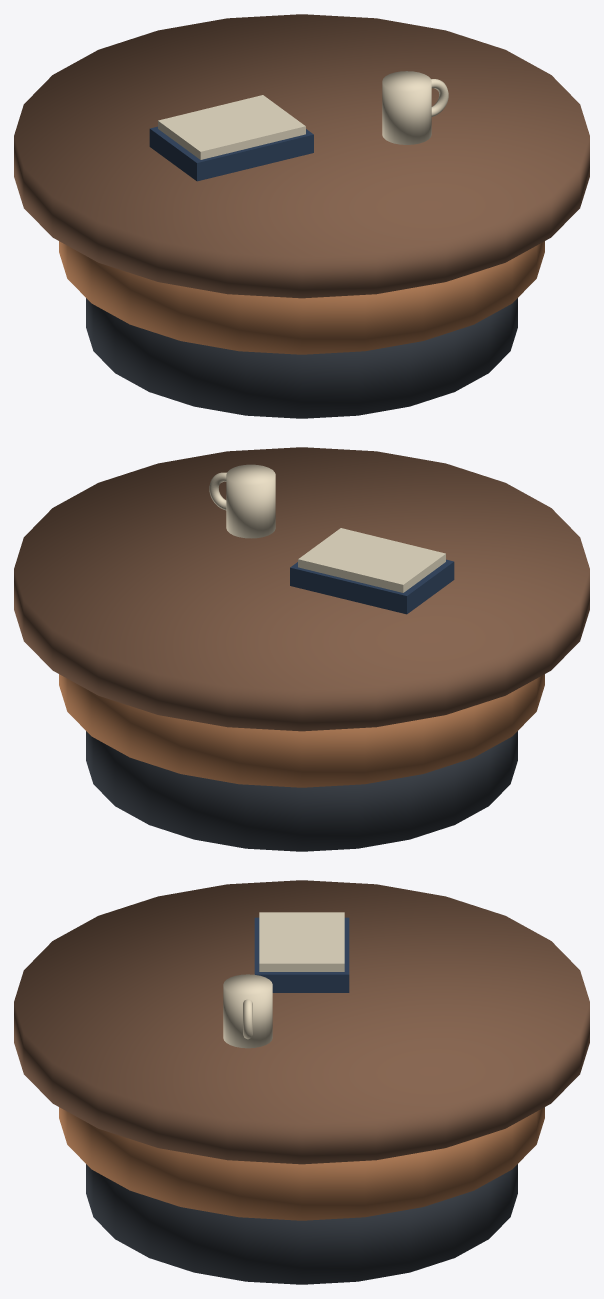
Rendered from coffee_table.glb.
The picture shows the model from 3 angles, top to bottom: view 1: azimuth 30°, elevation 25°; view 2: azimuth 150°, elevation 25°; view 3: azimuth 270°, elevation 25°; orthographic projection.
Parts seen in each view (by area): view 1: root_wood, root_charcoal, root_copper, root_paper, root_cream, root_navy; view 2: root_wood, root_charcoal, root_copper, root_paper, root_cream, root_navy; view 3: root_wood, root_charcoal, root_copper, root_paper, root_cream, root_navy.
Part boxes in pixels (left/top/right/bottom): root_wood: left=14, top=14, right=589, bottom=298; root_charcoal: left=86, top=298, right=517, bottom=418; root_copper: left=59, top=241, right=544, bottom=354; root_paper: left=158, top=95, right=305, bottom=159; root_cream: left=382, top=71, right=448, bottom=144; root_navy: left=149, top=126, right=313, bottom=181; root_wood: left=14, top=447, right=589, bottom=731; root_charcoal: left=86, top=731, right=517, bottom=851; root_copper: left=59, top=674, right=544, bottom=787; root_paper: left=298, top=528, right=445, bottom=592; root_cream: left=209, top=464, right=275, bottom=538; root_navy: left=290, top=559, right=454, bottom=614; root_wood: left=14, top=880, right=589, bottom=1164; root_charcoal: left=86, top=1164, right=517, bottom=1284; root_copper: left=59, top=1107, right=544, bottom=1220; root_paper: left=259, top=912, right=344, bottom=971; root_cream: left=223, top=974, right=272, bottom=1048; root_navy: left=254, top=917, right=349, bottom=992.
Size of the model in its own units: 1.28 by 0.605 by 1.28.
